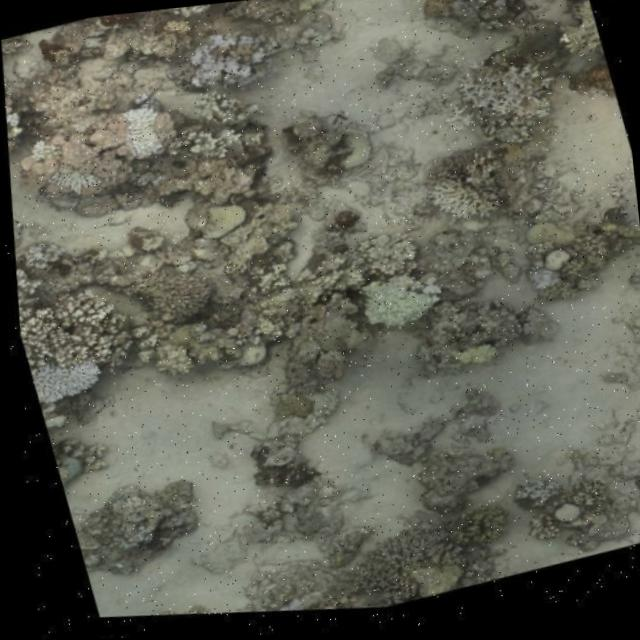Bleached Coral: (419, 52, 555, 166), (170, 13, 277, 107), (345, 263, 448, 353), (414, 165, 501, 246), (104, 94, 184, 178), (24, 353, 111, 419), (136, 340, 211, 400), (35, 160, 107, 215), (8, 234, 74, 290), (13, 144, 65, 179), (2, 109, 32, 154)
